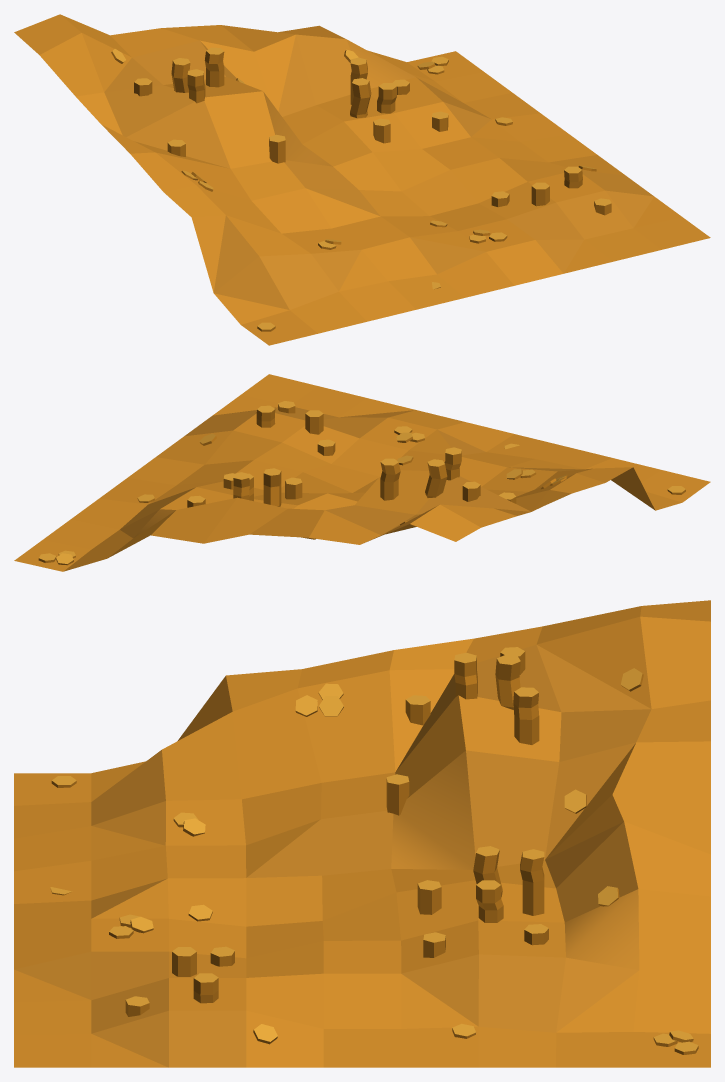
The model's file is ST_Env_Gold_Corner_01.fbx.
3 renders of one model, top to bottom at view 1: azimuth 30°, elevation 25°; view 2: azimuth 150°, elevation 25°; view 3: azimuth 270°, elevation 25°, orthographic. The views are drawn at different scales.
Visible parts, largest first — view 1: ST_Env_Gold_Corner_01; view 2: ST_Env_Gold_Corner_01; view 3: ST_Env_Gold_Corner_01.
Part boxes in pixels (left/top/right/bottom): ST_Env_Gold_Corner_01: left=14, top=14, right=710, bottom=345; ST_Env_Gold_Corner_01: left=14, top=374, right=710, bottom=571; ST_Env_Gold_Corner_01: left=14, top=600, right=710, bottom=1067.
Bounding box in the file's own units: 5 × 1.46 × 5.
